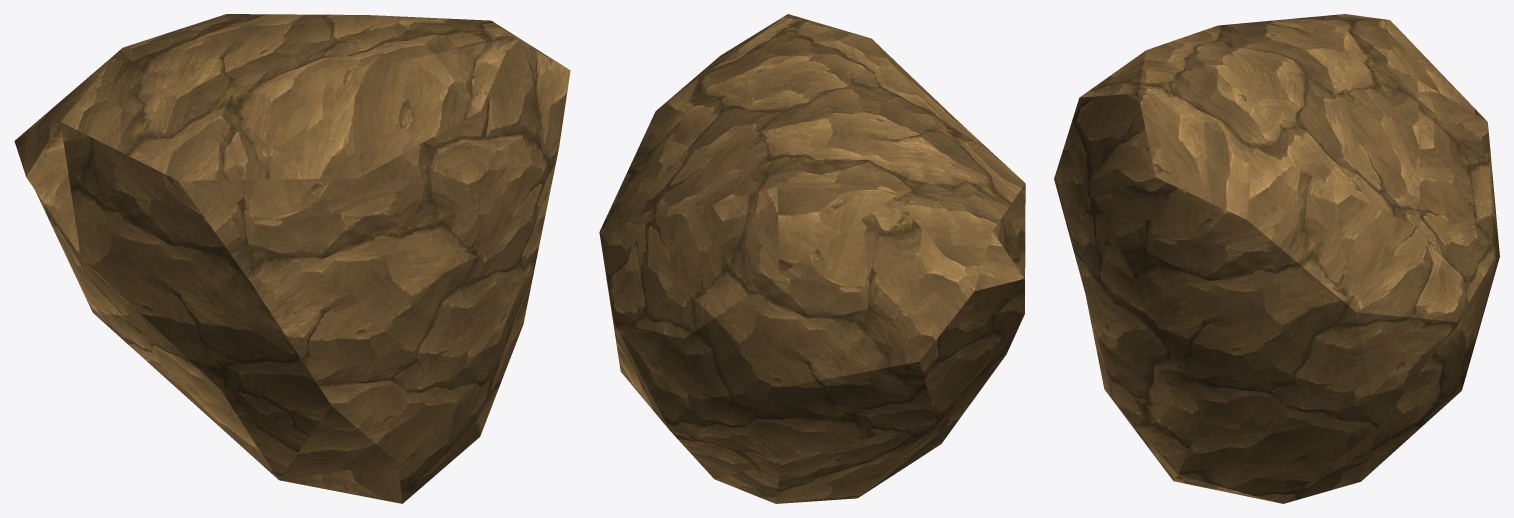
The model's file is grock_a.glb.
3 views of the same model, side by side, from view 1: azimuth 30°, elevation 25°; view 2: azimuth 150°, elevation 25°; view 3: azimuth 270°, elevation 25° (orthographic). The views are drawn at different scales.
Visible parts, largest first — view 1: model; view 2: model; view 3: model.
Part boxes in pixels (x1=…): model: x1=14, y1=14, x2=570, y2=503; model: x1=599, y1=14, x2=1025, y2=503; model: x1=1054, y1=14, x2=1499, y2=503.
Size of the model in its own units: 0.9408 by 0.8694 by 0.8158.
1 material, 1 textured.
